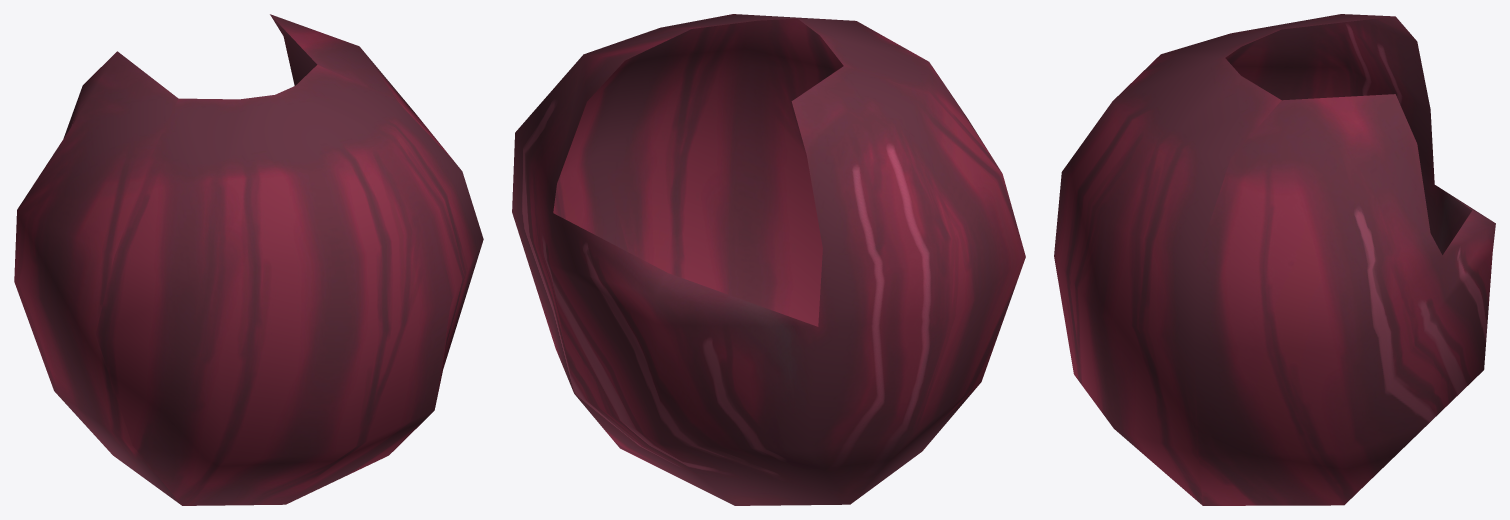
File: character_Head08.FBX
3 views of the same model, side by side, from view 1: azimuth 30°, elevation 25°; view 2: azimuth 150°, elevation 25°; view 3: azimuth 270°, elevation 25° (orthographic). The views are drawn at different scales.
Parts seen in each view (by area): view 1: Sphere126; view 2: Sphere126; view 3: Sphere126.
Boxes of the visible parts, x1,y1,x2,y2 form: Sphere126: [14, 14, 483, 505]; Sphere126: [512, 14, 1025, 505]; Sphere126: [1054, 14, 1495, 505].
Size of the model in its own units: 43.67 by 42.23 by 39.83.
